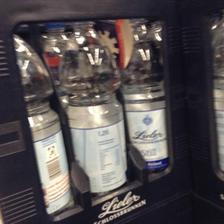Wasser: (57, 20, 126, 191), (12, 26, 74, 210), (120, 17, 166, 175)
